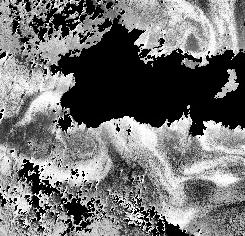CE: (177, 18, 218, 59)
